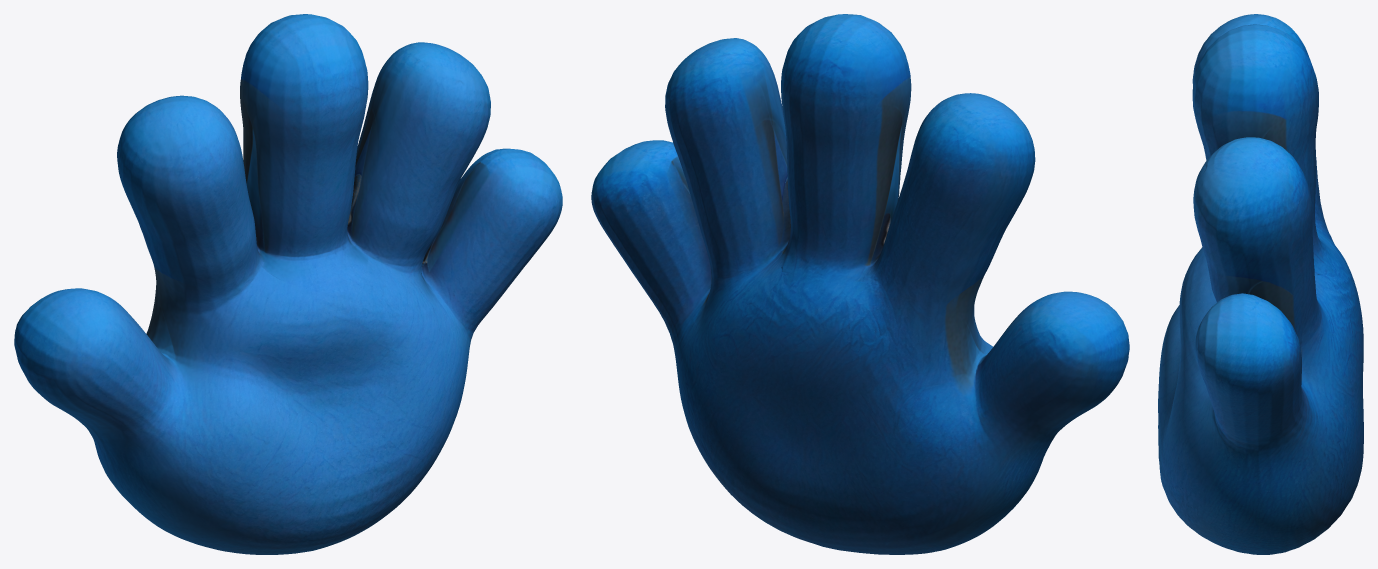
The model's file is Cartoon Blue Hand.fbx.
3 views of the same model, side by side, from view 1: azimuth 30°, elevation 25°; view 2: azimuth 150°, elevation 25°; view 3: azimuth 270°, elevation 25° (orthographic). The views are drawn at different scales.
Visible parts, largest first — view 1: texture_mapping; view 2: texture_mapping; view 3: texture_mapping.
Boxes of the visible parts, x1=… form: texture_mapping: x1=14, y1=14, x2=562, y2=554; texture_mapping: x1=591, y1=14, x2=1129, y2=554; texture_mapping: x1=1158, y1=14, x2=1363, y2=554.
Bounding box in the file's own units: 0.9983 × 0.3454 × 0.9416.
1 material, 1 textured.
